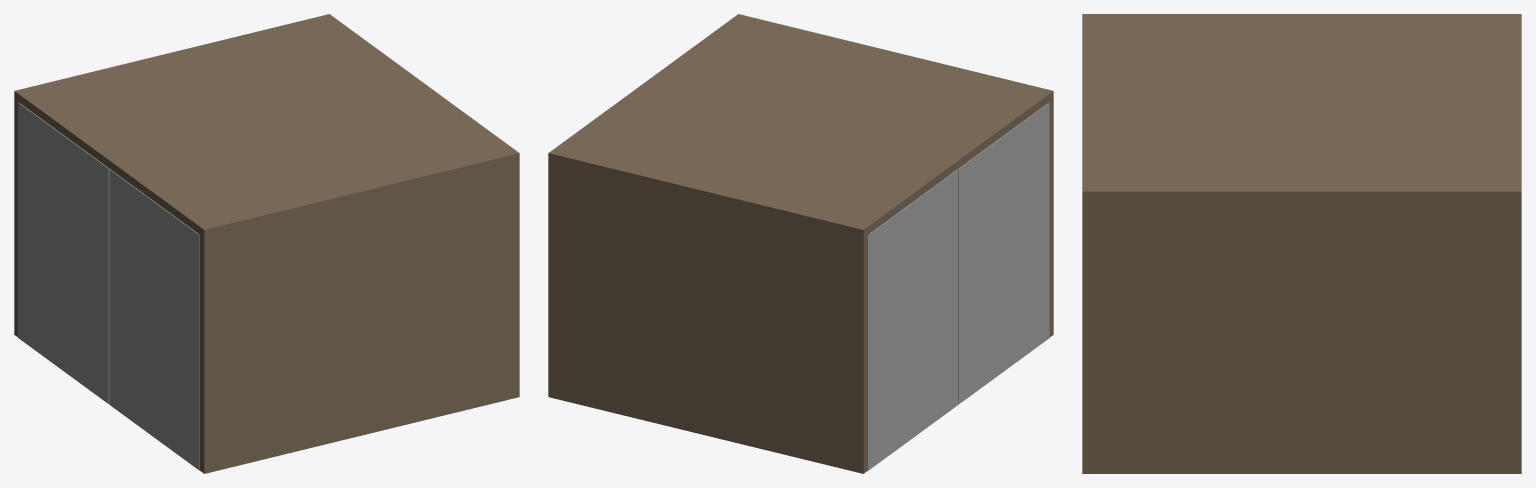
The model's file is Elevador.fbx.
3 views of the same model, side by side, from view 1: azimuth 30°, elevation 25°; view 2: azimuth 150°, elevation 25°; view 3: azimuth 270°, elevation 25° (orthographic). The views are drawn at different scales.
Visible parts, largest first — view 1: base, pCube2, pCube3; view 2: base, pCube3, pCube2; view 3: base.
Part boxes in pixels (box(x1,y1,x2,y2)): base: box(14, 14, 519, 473); pCube2: box(18, 102, 109, 403); pCube3: box(109, 169, 199, 470); base: box(548, 14, 1053, 473); pCube3: box(958, 102, 1049, 404); pCube2: box(867, 169, 958, 470); base: box(1082, 14, 1521, 473).
Size of the model in its own units: 10.01 by 7.4 by 10.45.
